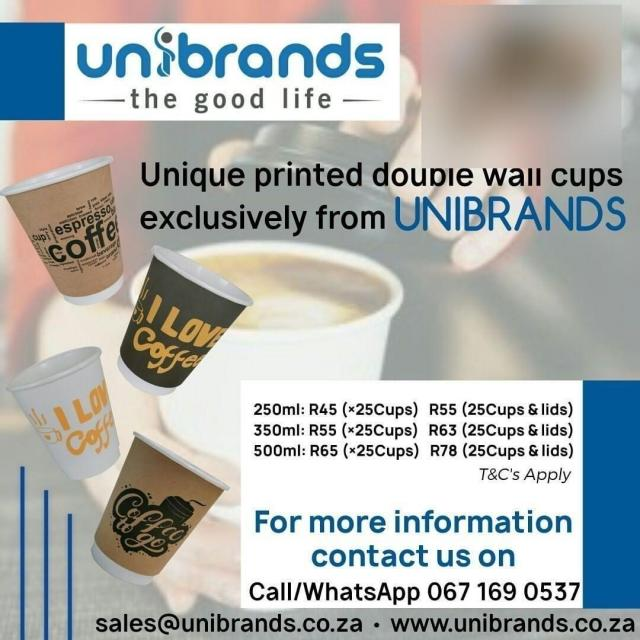cup-disposable: (84, 432, 230, 590), (0, 152, 138, 306), (119, 244, 254, 398), (1, 340, 131, 482)
